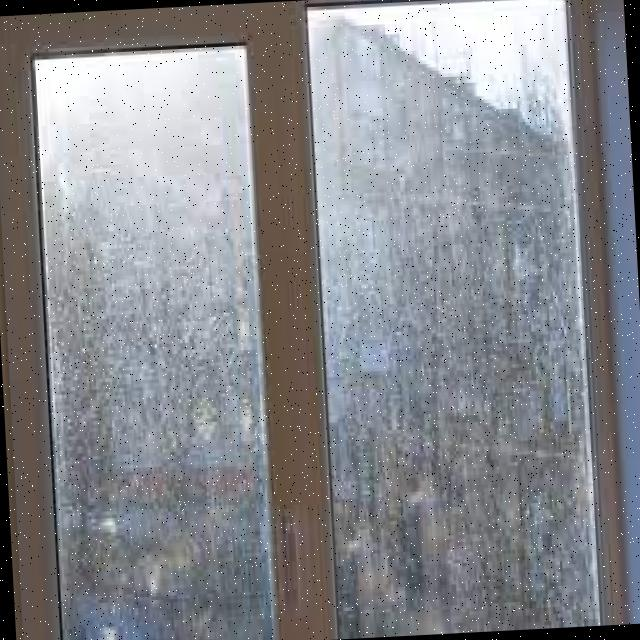Window: (6, 0, 608, 640)
